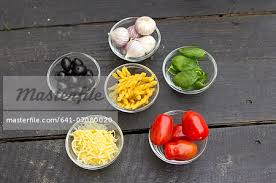Onion: (116, 37, 148, 56)
Tomato: (154, 125, 198, 155)
